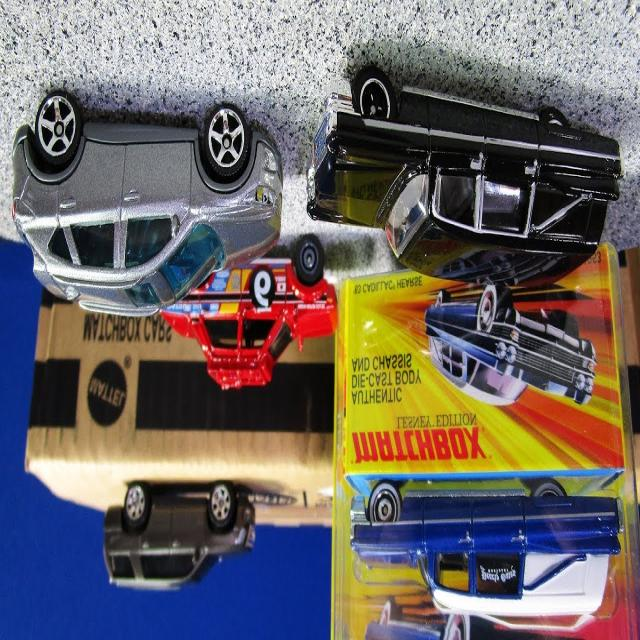Car: (305, 65, 623, 290), (11, 91, 283, 318), (350, 477, 622, 617), (158, 235, 338, 392), (423, 282, 598, 408), (102, 480, 255, 592)
